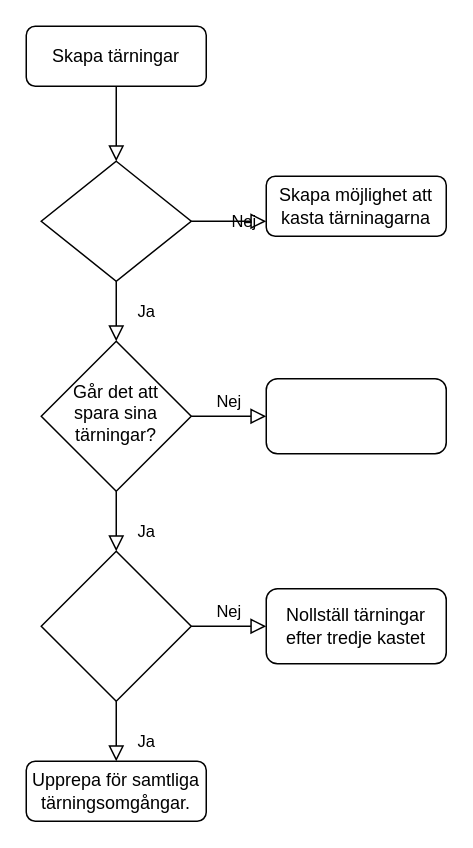
Some shapes in this 473 by 848 pixel diagram are drawn without their labels. Each missing label, with the centre of its shape:
"Går tärningar att rulla?" belongs at point (115, 220).
"Nollställs tärningar efter tre kast?" belongs at point (115, 625).
"Skapa checkboxar så att valfri tärning sparas" belongs at point (355, 415).
